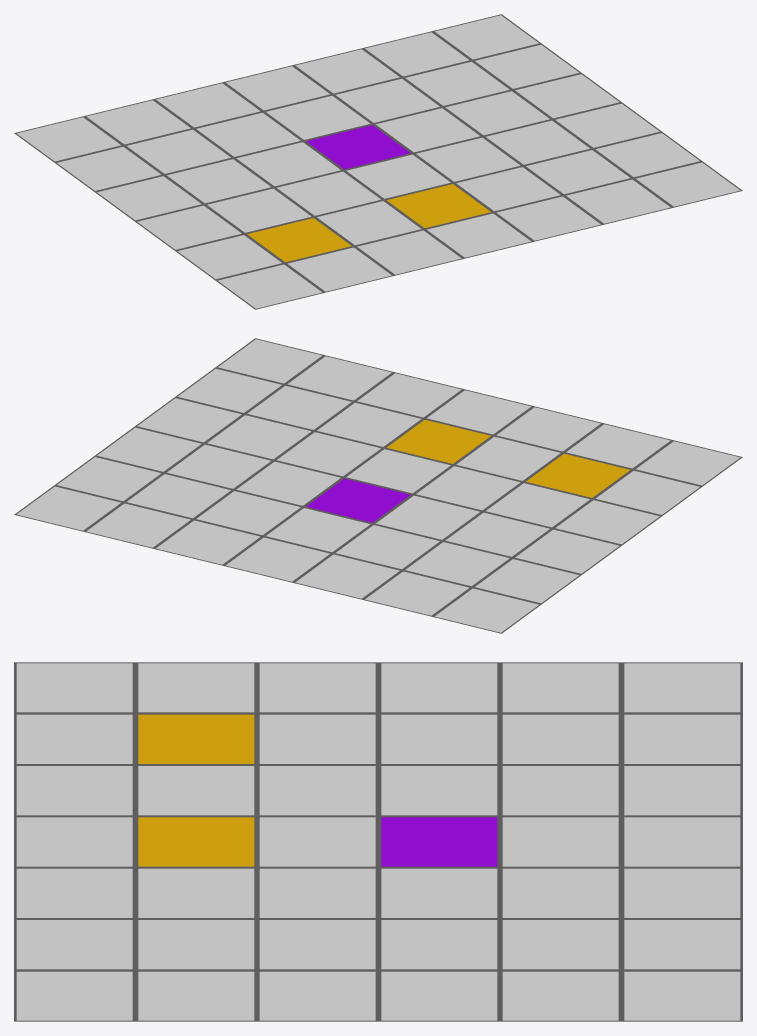
The picture shows the model from 3 angles, top to bottom: view 1: azimuth 30°, elevation 25°; view 2: azimuth 150°, elevation 25°; view 3: azimuth 270°, elevation 25°; orthographic projection. The views are drawn at different scales.
Visible parts, largest first — view 1: Plane.002; view 2: Plane.002; view 3: Plane.002.
Boxes of the visible parts, x1=… form: Plane.002: x1=14, y1=14, x2=742, y2=309; Plane.002: x1=14, y1=338, x2=742, y2=633; Plane.002: x1=14, y1=662, x2=742, y2=1021.
Bounding box in the file's own units: 1074 × 4.69e-05 × 921.
